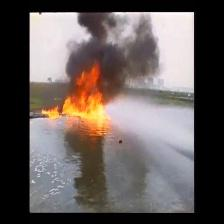fire: (43, 63, 110, 123)
